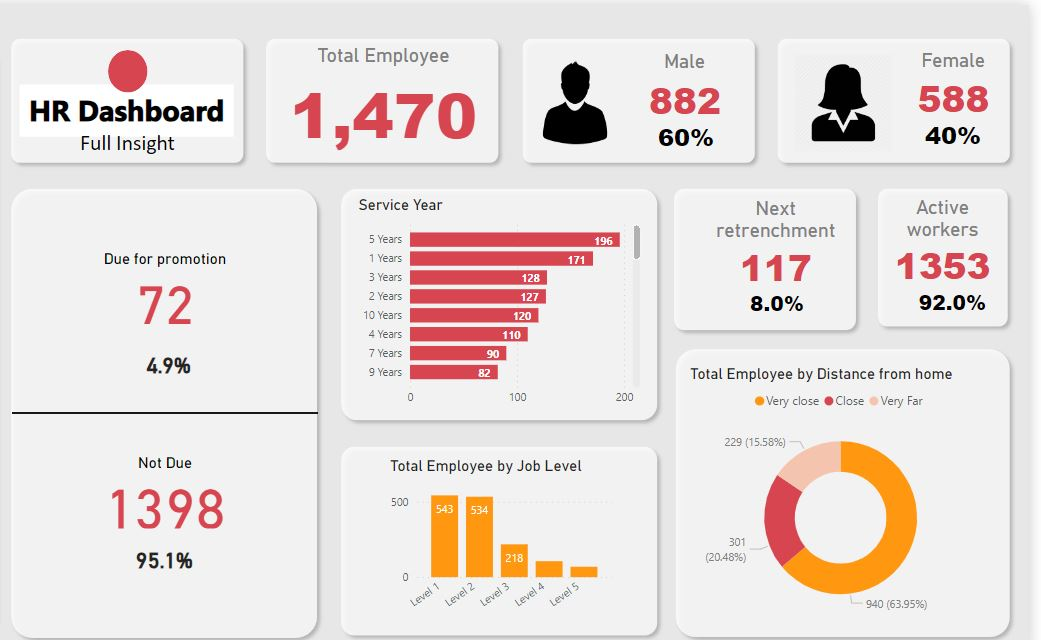

This screenshot's page, from the dashboard's own definition file:
{"tool":"powerbi","page":{"name":"Page 1","canvas":[1280,720],"ordinal":0},"visuals":[{"type":"shape","box":[8,28,132,687],"z":0},{"type":"shape","box":[140,28,276,156],"z":1000},{"type":"shape","box":[992,28,276,156],"z":2000},{"type":"shape","box":[708,28,276,156],"z":3000},{"type":"shape","box":[423,28,276,156],"z":4000},{"type":"shape","box":[140,195,358,517],"z":5000},{"type":"shape","box":[507,195,369,275],"z":6000},{"type":"shape","box":[507,482,369,228],"z":7000},{"type":"shape","box":[876,195,220,175],"z":8000},{"type":"shape","box":[1103,195,162,171],"z":9000},{"type":"shape","box":[878,374,389,338],"z":10000},{"type":"textbox","box":[159,89,238,58],"z":11000},{"type":"textbox","box":[206,134,143,41],"z":12000},{"type":"shape","box":[256,50,44,47],"z":13000},{"type":"card","title":"Total Employee","fields":{"Values":["All Measure.Total Employee"]},"box":[451,44,222,123],"z":14000},{"type":"card","title":"Male","fields":{"Values":["All Measure.Male"]},"box":[839,50,118,84],"z":15000},{"type":"card","title":"Male","fields":{"Values":["All Measure.% male"]},"box":[861,118,74,57],"z":16000},{"type":"card","title":"Female","fields":{"Values":["All Measure.Female"]},"box":[1136,48,118,84],"z":17000},{"type":"card","title":"Male","fields":{"Values":["All Measure.% Female"]},"box":[1158,116,74,57],"z":18000},{"type":"image","box":[1013,48,120,120],"z":19000},{"type":"image","box":[720,56,111,103],"z":20000},{"type":"card","title":"Due  for promotion","fields":{"Values":["All Measure.Due for promotion"]},"box":[169.4,271.6,299.8,88.6],"z":21000},{"type":"card","fields":{"Values":["All Measure.% Due for Promotion"]},"box":[249.2,360.2,148,79.8],"z":22000},{"type":"card","title":"Not Due","fields":{"Values":["All Measure.Not Due"]},"box":[169.4,498.4,299.8,88.6],"z":23000},{"type":"card","fields":{"Values":["All Measure.% Not due"]},"box":[245.3,577.2,148,79.8],"z":24000},{"type":"shape","box":[149.9,303.7,339.7,299.8],"z":25000},{"type":"barChart","title":"Service Year","fields":{"Category":["HR Analytics Data.Service Year"],"Y":["All Measure.Total Employee"]},"box":[529.5,211.2,323.2,242.4],"z":26000},{"type":"columnChart","fields":{"Category":["HR Analytics Data.Job Level"],"Y":["All Measure.Total Employee"]},"box":[565.5,501.3,257,188.8],"z":27000},{"type":"card","title":"Active workers","fields":{"Values":["All Measure.On Service"]},"box":[1112.6,211.2,141.1,105.1],"z":28000},{"type":"card","title":"Male","fields":{"Values":["All Measure.% of active workers"]},"box":[1146.6,291,96.4,78.8],"z":29000},{"type":"card","title":"Next retrenchment","fields":{"Values":["All Measure.Due for retrenchment"]},"box":[916.9,213.2,163.5,105.1],"z":30000},{"type":"card","title":"Male","fields":{"Values":["All Measure.% of next  retreanchment"]},"box":[951.3,293.3,96.4,78.8],"z":31000},{"type":"donutChart","fields":{"Y":["All Measure.Total Employee"],"Category":["HR Analytics Data.Distance from home"]},"box":[898.4,400.1,344.6,290.1],"z":32000}]}

Visuals, with their boxes on the page's 1280x720 design canvas (x1, y1, x2, y2). These are canvas units, not pixel positions in the 1041x640 screenshot, which may show the page scaled, cropped or inside an application window:
shape: crop(8, 28, 140, 715)
shape: crop(140, 28, 416, 184)
shape: crop(992, 28, 1268, 184)
shape: crop(708, 28, 984, 184)
shape: crop(423, 28, 699, 184)
shape: crop(140, 195, 498, 712)
shape: crop(507, 195, 876, 470)
shape: crop(507, 482, 876, 710)
shape: crop(876, 195, 1096, 370)
shape: crop(1103, 195, 1265, 366)
shape: crop(878, 374, 1267, 712)
textbox: crop(159, 89, 397, 147)
textbox: crop(206, 134, 349, 175)
shape: crop(256, 50, 300, 97)
"Total Employee" card: crop(451, 44, 673, 167)
"Male" card: crop(839, 50, 957, 134)
"Male" card: crop(861, 118, 935, 175)
"Female" card: crop(1136, 48, 1254, 132)
"Male" card: crop(1158, 116, 1232, 173)
image: crop(1013, 48, 1133, 168)
image: crop(720, 56, 831, 159)
"Due  for promotion" card: crop(169, 272, 469, 360)
card - All Measure.% Due for Promotion: crop(249, 360, 397, 440)
"Not Due" card: crop(169, 498, 469, 587)
card - All Measure.% Not due: crop(245, 577, 393, 657)
shape: crop(150, 304, 490, 604)
"Service Year" barChart: crop(530, 211, 853, 454)
columnChart - HR Analytics Data.Job Level x All Measure.Total Employee: crop(566, 501, 822, 690)
"Active workers" card: crop(1113, 211, 1254, 316)
"Male" card: crop(1147, 291, 1243, 370)
"Next retrenchment" card: crop(917, 213, 1080, 318)
"Male" card: crop(951, 293, 1048, 372)
donutChart - All Measure.Total Employee x HR Analytics Data.Distance from home: crop(898, 400, 1243, 690)
